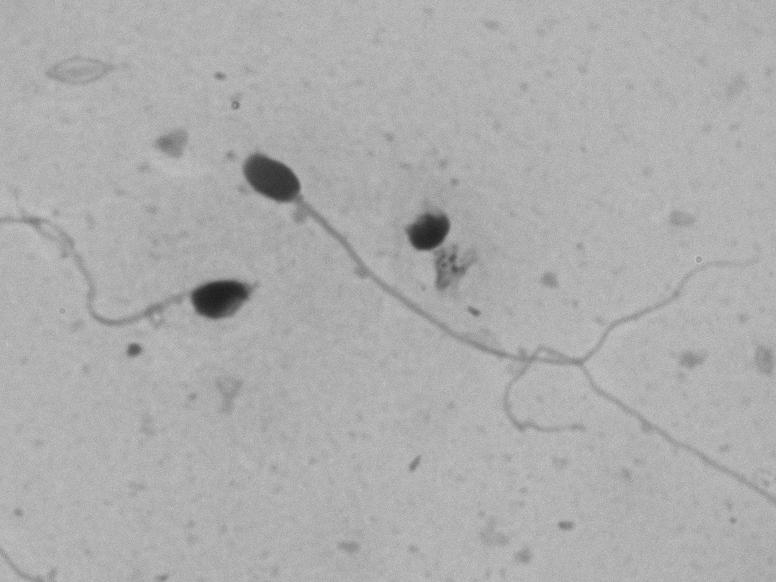Abnormal: (13, 222, 273, 386)
Normal: (232, 132, 765, 378)
